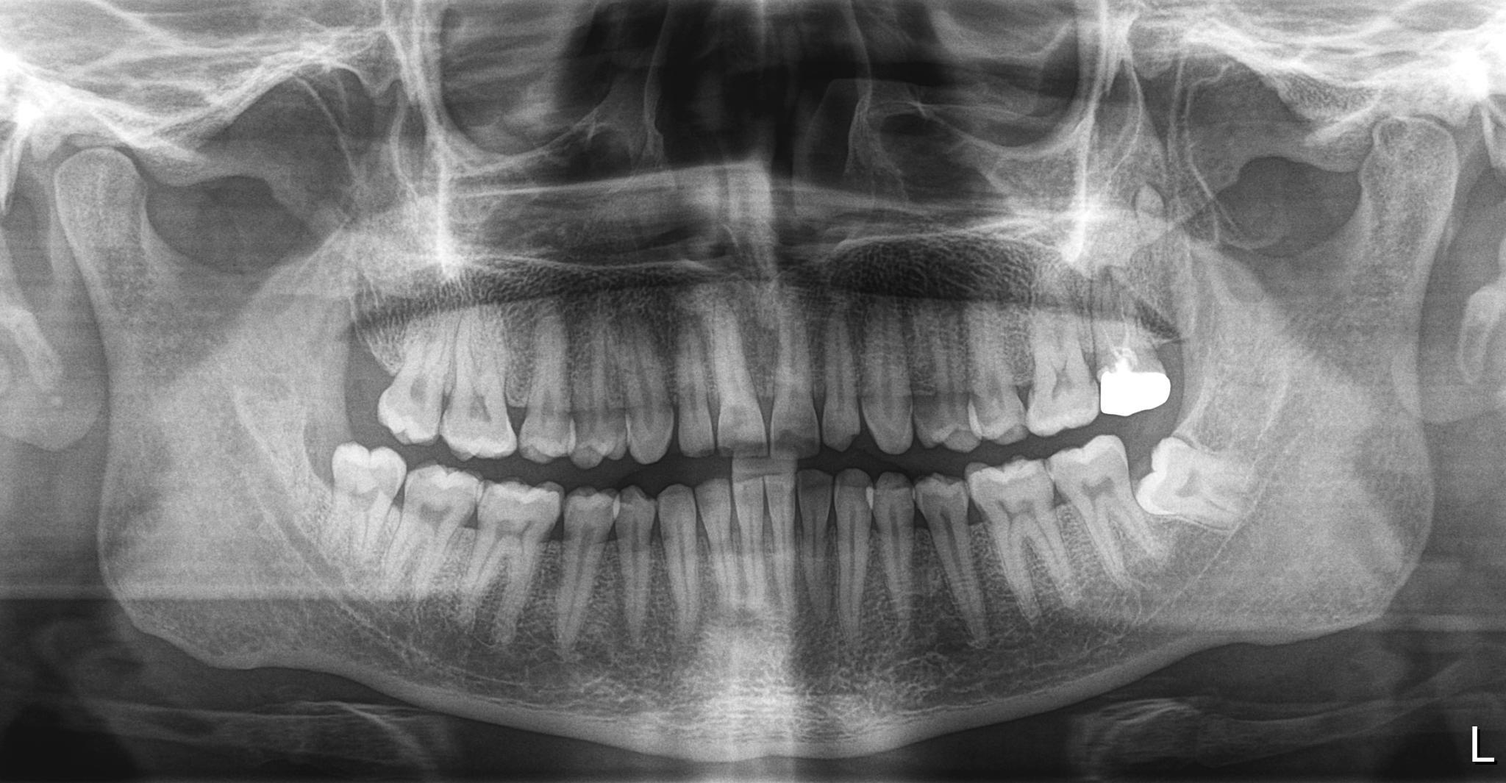Endodontically Treated Tooth: (1094, 279, 1167, 420)
Impacted Third Molar: (1139, 439, 1249, 523)
